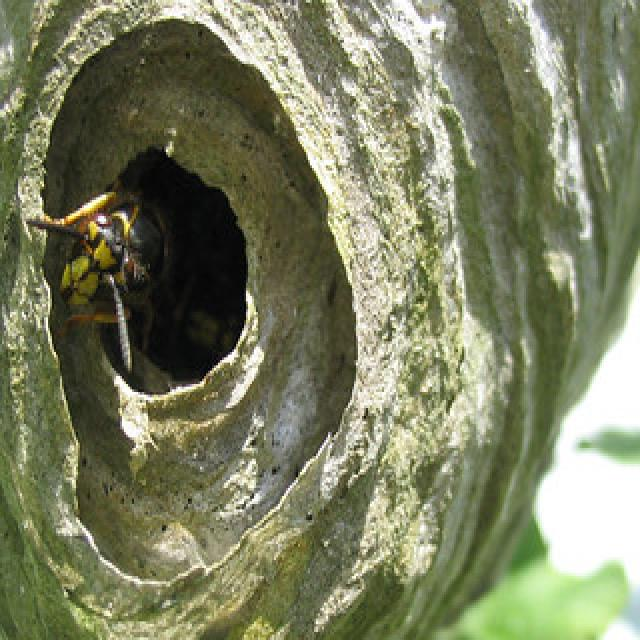Guepe: (26, 163, 224, 366)
